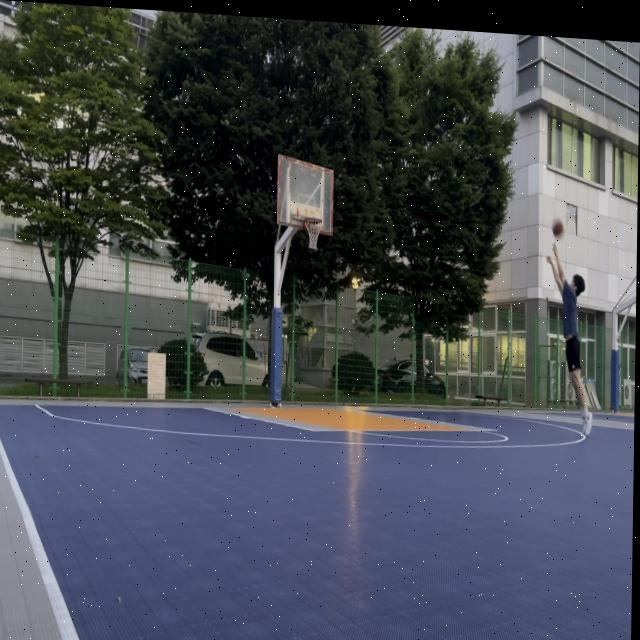basketball: (551, 215, 565, 241)
hoop: (304, 216, 323, 251)
